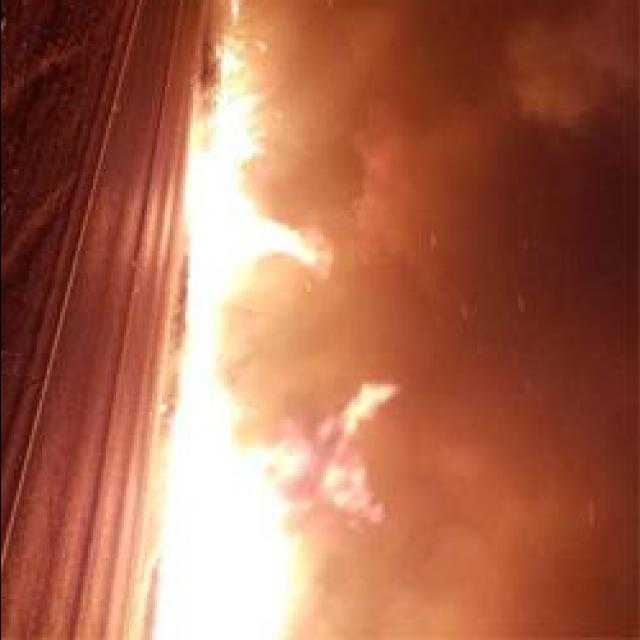fire: (160, 429, 312, 637), (188, 137, 245, 337), (182, 311, 242, 440), (216, 78, 259, 164)
smoke: (317, 541, 537, 640), (488, 0, 637, 141)
